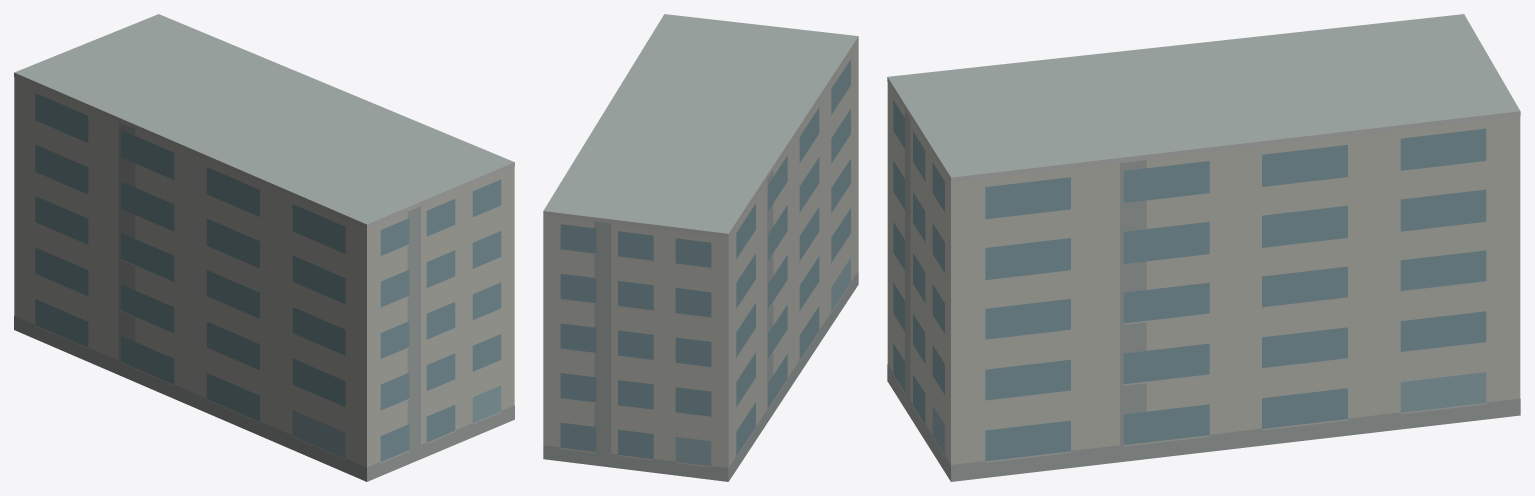
Rendered from survey-upis-32721340.glb.
3 renders of one model, left to right at view 1: azimuth 30°, elevation 25°; view 2: azimuth 150°, elevation 25°; view 3: azimuth 270°, elevation 25°, orthographic. The views are drawn at different scales.
Parts seen in each view (by area): view 1: survey-upis-32721340.tmp; view 2: survey-upis-32721340.tmp; view 3: survey-upis-32721340.tmp.
Part boxes in pixels (left/top/right/bottom): survey-upis-32721340.tmp: left=14, top=14, right=514, bottom=481; survey-upis-32721340.tmp: left=543, top=14, right=858, bottom=481; survey-upis-32721340.tmp: left=887, top=14, right=1520, bottom=481.
Bounding box in the file's own units: 16.67 × 14.45 × 27.25.
